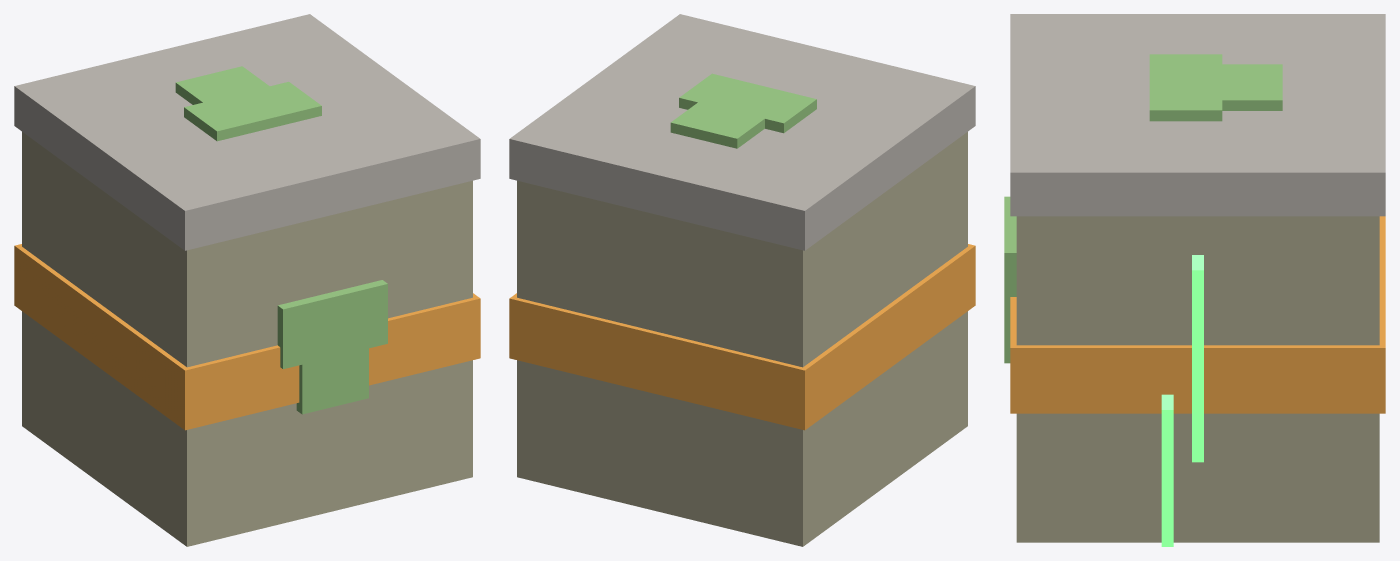
The model's file is SupplyCrate_Food.glb.
3 renders of one model, left to right at view 1: azimuth 30°, elevation 25°; view 2: azimuth 150°, elevation 25°; view 3: azimuth 270°, elevation 25°, orthographic. The views are drawn at different scales.
Size of the model in its own units: 0.68 by 0.7 by 0.63.
